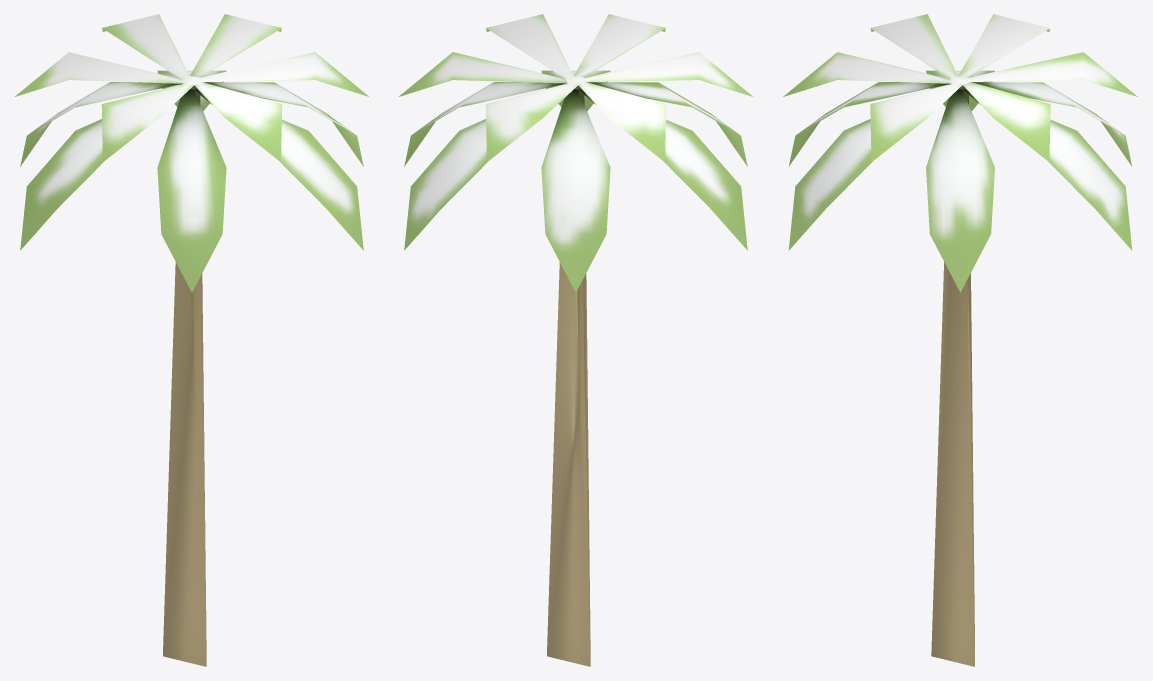
3 renders of one model, left to right at view 1: azimuth 30°, elevation 25°; view 2: azimuth 150°, elevation 25°; view 3: azimuth 270°, elevation 25°, orthographic.
Visible parts, largest first — view 1: wLODPalmold; view 2: wLODPalmold; view 3: wLODPalmold.
Boxes of the visible parts, bbox=[...] form: wLODPalmold: bbox=[15, 14, 368, 666]; wLODPalmold: bbox=[399, 14, 752, 666]; wLODPalmold: bbox=[783, 14, 1137, 666].
Bounding box in the file's own units: 11.62 × 19.07 × 10.42.
1 material, 1 textured.
